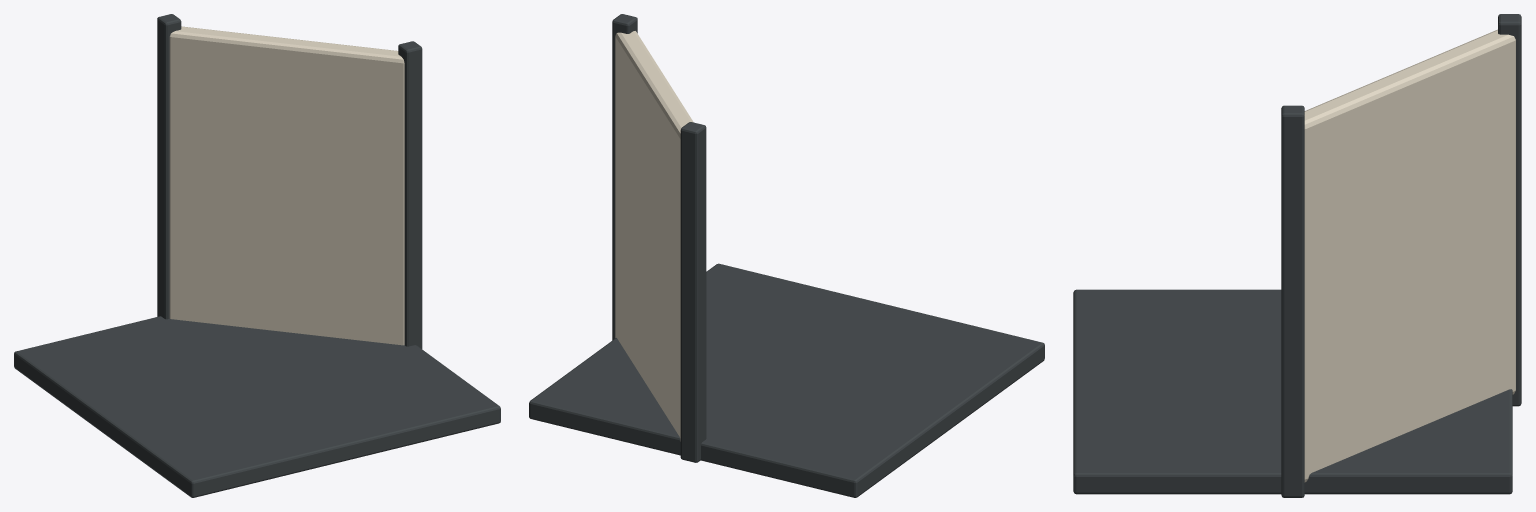
File: structure_chamfer_corner.glb
3 views of the same model, side by side, from view 1: azimuth 30°, elevation 25°; view 2: azimuth 150°, elevation 25°; view 3: azimuth 270°, elevation 25° (orthographic). The views are drawn at different scales.
Parts seen in each view (by area): view 1: 45 degree shell panel, Chamfer floor plinth, Corner post A, Corner post B; view 2: Chamfer floor plinth, 45 degree shell panel, Corner post B, Corner post A; view 3: 45 degree shell panel, Chamfer floor plinth, Corner post A, Corner post B.
Part boxes in pixels (x1,y1,x2,y2): 45 degree shell panel: [169, 26, 404, 345]; Chamfer floor plinth: [14, 316, 500, 497]; Corner post A: [398, 41, 422, 348]; Corner post B: [157, 14, 181, 319]; Chamfer floor plinth: [529, 263, 1044, 497]; 45 degree shell panel: [615, 31, 693, 441]; Corner post B: [680, 122, 706, 462]; Corner post A: [612, 14, 637, 340]; 45 degree shell panel: [1304, 29, 1515, 482]; Chamfer floor plinth: [1073, 289, 1512, 494]; Corner post A: [1281, 105, 1304, 497]; Corner post B: [1498, 14, 1521, 406].
Size of the model in its own units: 3.06 by 2.9 by 3.06.
